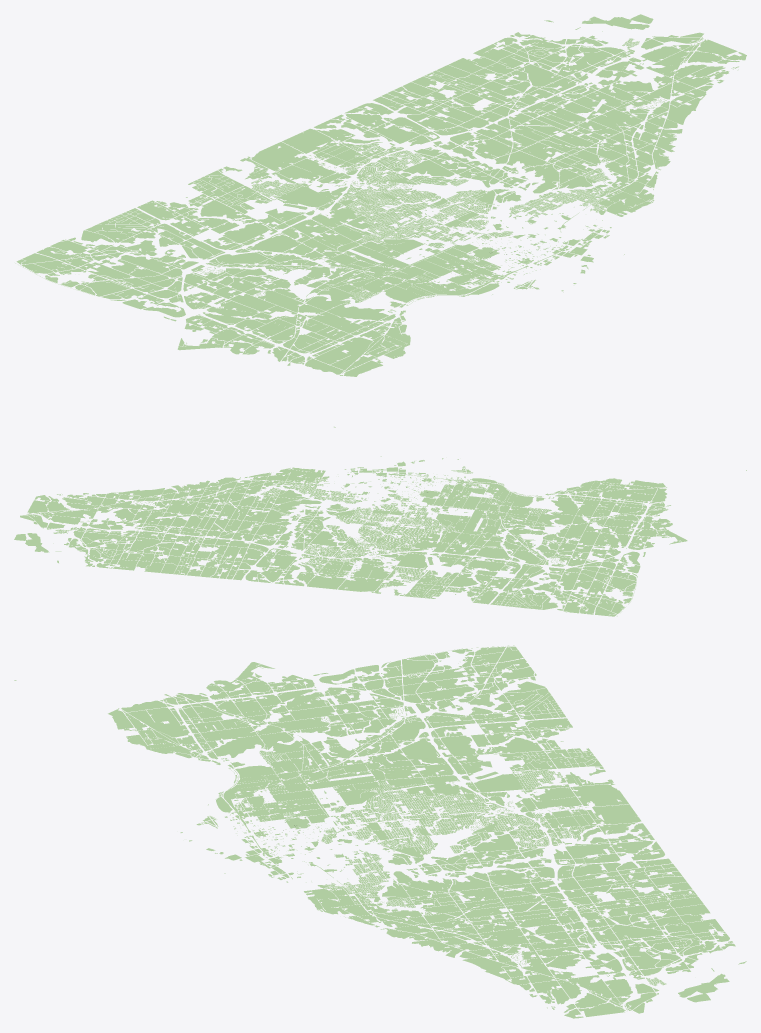
File: landuse.fbx
3 views of the same model, one above another, from view 1: azimuth 30°, elevation 25°; view 2: azimuth 150°, elevation 25°; view 3: azimuth 270°, elevation 25° (orthographic). The views are drawn at different scales.
Parts seen in each view (by area): view 1: landuse; view 2: landuse; view 3: landuse.
Part boxes in pixels (x1=…): landuse: x1=15, y1=14, x2=746, y2=427; landuse: x1=14, y1=456, x2=746, y2=616; landuse: x1=14, y1=645, x2=746, y2=1018.
Bounding box in the file's own units: 55183 × 84.39 × 45800.
